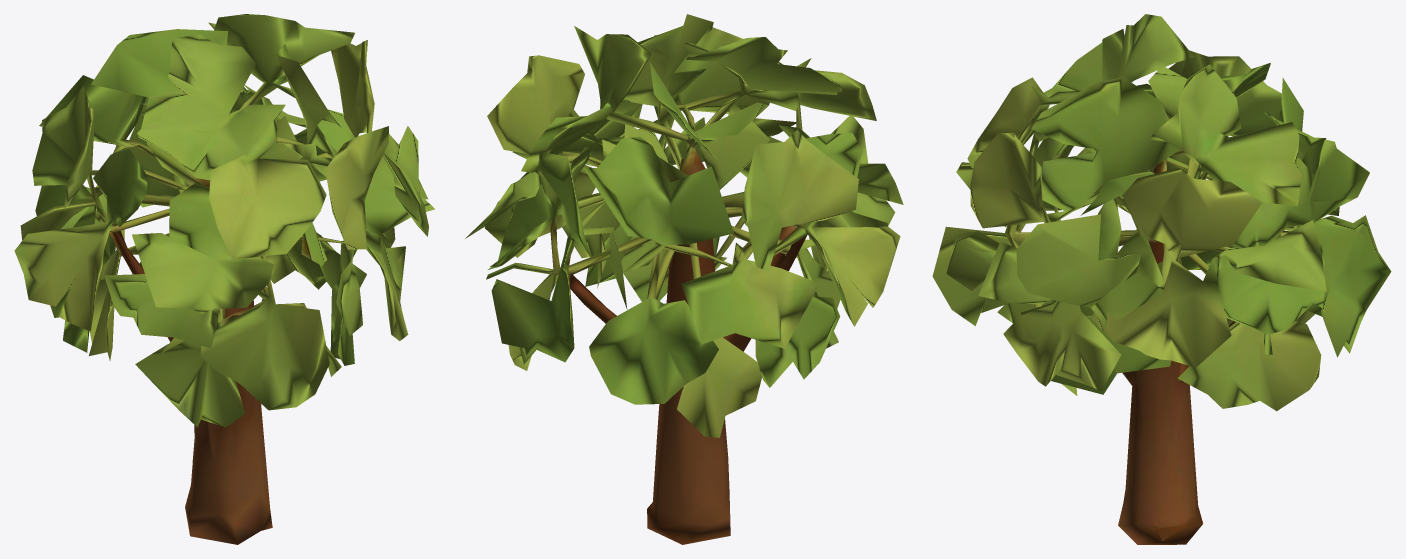
The model's file is tree.glb.
3 views of the same model, side by side, from view 1: azimuth 30°, elevation 25°; view 2: azimuth 150°, elevation 25°; view 3: azimuth 270°, elevation 25° (orthographic). The views are drawn at different scales.
Visible parts, largest first — view 1: tripo_node_19ae7aa6-3dea-4c22-8790-6b35d033e05e; view 2: tripo_node_19ae7aa6-3dea-4c22-8790-6b35d033e05e; view 3: tripo_node_19ae7aa6-3dea-4c22-8790-6b35d033e05e.
Part boxes in pixels (box(x1,y1,x2,y2)): tripo_node_19ae7aa6-3dea-4c22-8790-6b35d033e05e: box(14, 14, 434, 544); tripo_node_19ae7aa6-3dea-4c22-8790-6b35d033e05e: box(465, 14, 903, 544); tripo_node_19ae7aa6-3dea-4c22-8790-6b35d033e05e: box(932, 14, 1391, 544).
Bounding box in the file's own units: 0.7555 × 1 × 0.854.
Materials: 1 (1 with a texture image).
